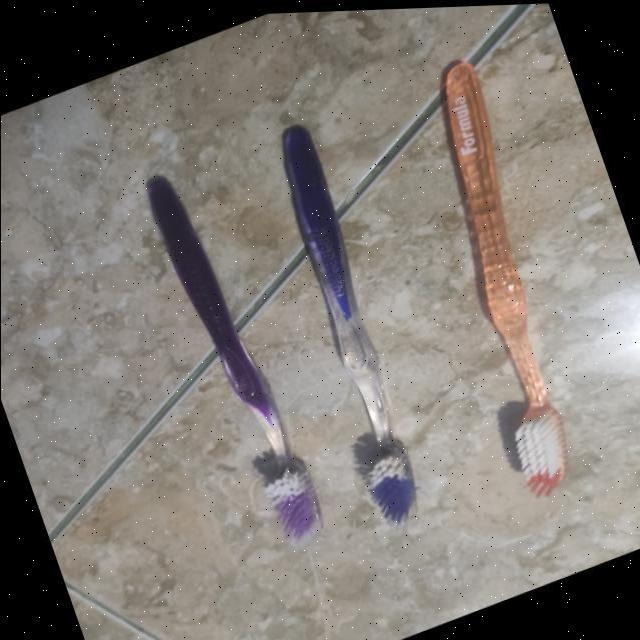toothbrush: (366, 34, 640, 514), (228, 74, 474, 542), (126, 126, 338, 570)
